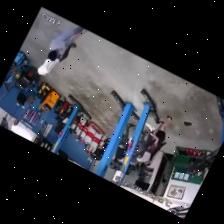person: (48, 26, 86, 60), (38, 43, 76, 74), (149, 116, 171, 152), (115, 123, 134, 162)
